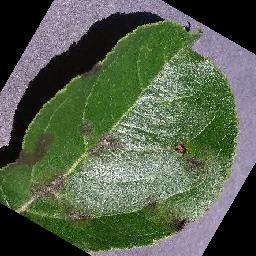apple healthy: (0, 17, 240, 254)
